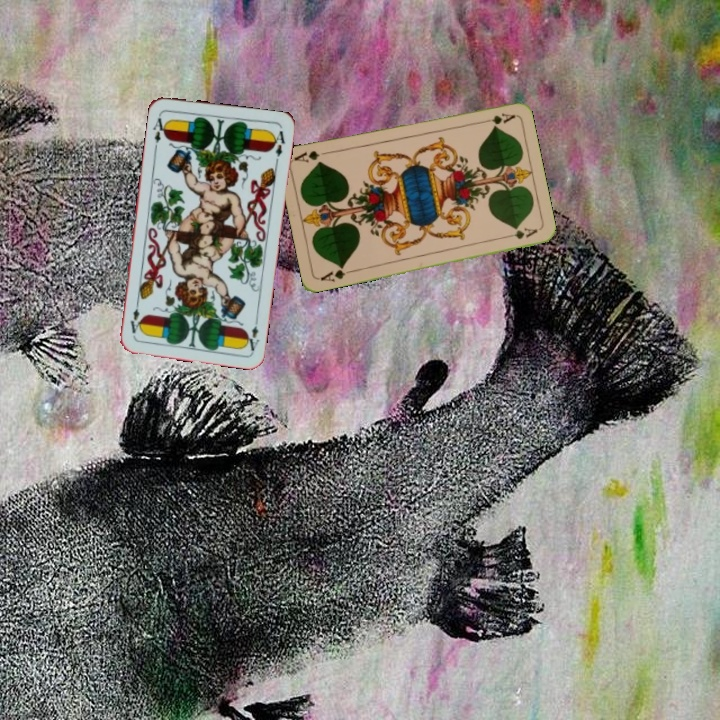EA: (242, 313, 262, 353), (149, 114, 170, 146)
GA: (316, 262, 356, 284), (476, 109, 517, 127)
